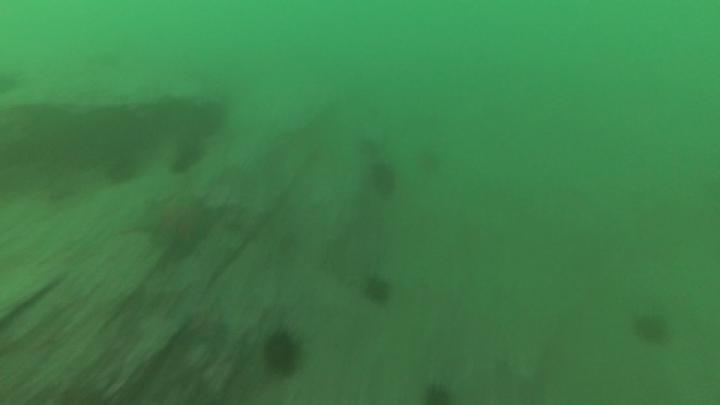echinus: (258, 327, 304, 378), (168, 138, 208, 178), (102, 154, 140, 190), (369, 161, 400, 200), (632, 314, 669, 345), (363, 274, 396, 307), (413, 146, 444, 177), (421, 381, 456, 405), (356, 136, 383, 166)
starfish: (121, 189, 225, 267), (169, 300, 234, 353)
